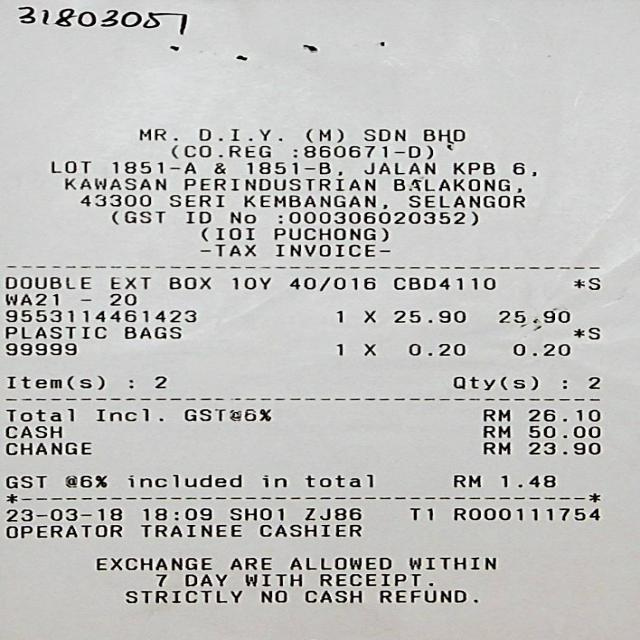text: (276, 211, 476, 225), (181, 177, 372, 190), (4, 309, 194, 322), (291, 144, 434, 159), (453, 507, 600, 521), (244, 194, 385, 208), (391, 178, 520, 192), (4, 506, 119, 521), (272, 226, 386, 241), (4, 524, 119, 538), (124, 590, 239, 604), (94, 556, 211, 569), (408, 194, 523, 207), (124, 474, 238, 487), (5, 374, 102, 389), (287, 556, 388, 570), (316, 574, 431, 586), (170, 144, 268, 158), (275, 244, 388, 256), (246, 161, 341, 175), (258, 524, 360, 537), (392, 276, 493, 289), (3, 325, 104, 338), (64, 177, 164, 190), (290, 275, 374, 290), (182, 407, 271, 421), (378, 589, 466, 603), (408, 555, 494, 569), (138, 524, 238, 536), (5, 441, 90, 455), (451, 375, 535, 389), (5, 275, 90, 288), (110, 160, 194, 173), (198, 127, 279, 140), (4, 407, 74, 422), (497, 310, 570, 324), (528, 408, 597, 422), (94, 408, 162, 422), (142, 506, 209, 520), (528, 424, 597, 437), (304, 474, 372, 487), (303, 506, 361, 521), (363, 162, 433, 174), (79, 194, 149, 206), (393, 310, 463, 322), (4, 343, 74, 355), (528, 442, 597, 454), (230, 506, 284, 521), (406, 343, 466, 356), (5, 424, 60, 438), (511, 343, 570, 356), (109, 210, 163, 224), (122, 325, 179, 338), (303, 590, 360, 603), (200, 226, 252, 240), (199, 243, 253, 256), (501, 474, 553, 487), (245, 574, 300, 586), (168, 194, 222, 206), (4, 293, 57, 305), (423, 129, 463, 143), (168, 275, 208, 289), (4, 474, 44, 488), (361, 127, 403, 140), (138, 126, 176, 140), (304, 128, 342, 142), (110, 275, 148, 289), (48, 160, 88, 173), (65, 474, 105, 487), (230, 556, 270, 569), (182, 574, 224, 586), (452, 162, 493, 174), (230, 276, 268, 288), (570, 326, 600, 341), (482, 408, 508, 422), (259, 589, 285, 603), (452, 474, 479, 487), (572, 276, 598, 289), (259, 474, 285, 487), (483, 424, 508, 437), (108, 293, 134, 305), (512, 162, 534, 176), (228, 211, 253, 223), (483, 442, 508, 454), (410, 506, 430, 520), (185, 211, 208, 223), (363, 342, 375, 357), (153, 374, 165, 389), (586, 375, 598, 388), (212, 162, 224, 174), (361, 310, 373, 322), (152, 574, 164, 586), (334, 310, 344, 323), (336, 343, 344, 356)
